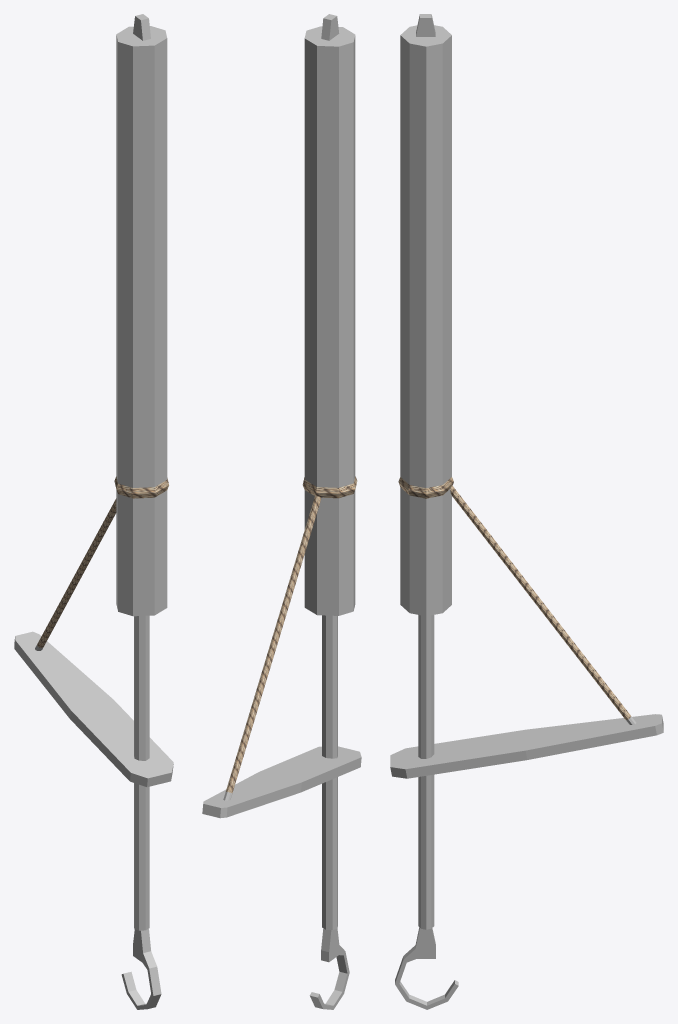
The model's file is irori01hook.fbx.
3 views of the same model, side by side, from view 1: azimuth 30°, elevation 25°; view 2: azimuth 150°, elevation 25°; view 3: azimuth 270°, elevation 25° (orthographic).
Visible parts, largest first — view 1: irori01hook; view 2: irori01hook; view 3: irori01hook.
Part boxes in pixels (x1=…): irori01hook: x1=14, y1=14, x2=173, y2=1009; irori01hook: x1=202, y1=14, x2=361, y2=1009; irori01hook: x1=390, y1=14, x2=663, y2=1009.
Size of the model in its own units: 12.72 by 236 by 59.09.
